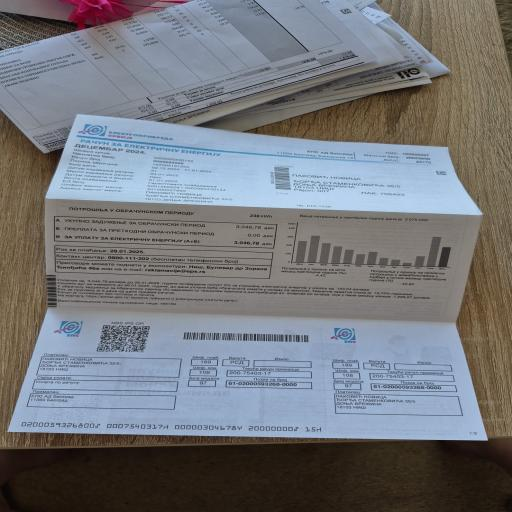racun_za_struju: (50, 199, 283, 260)
